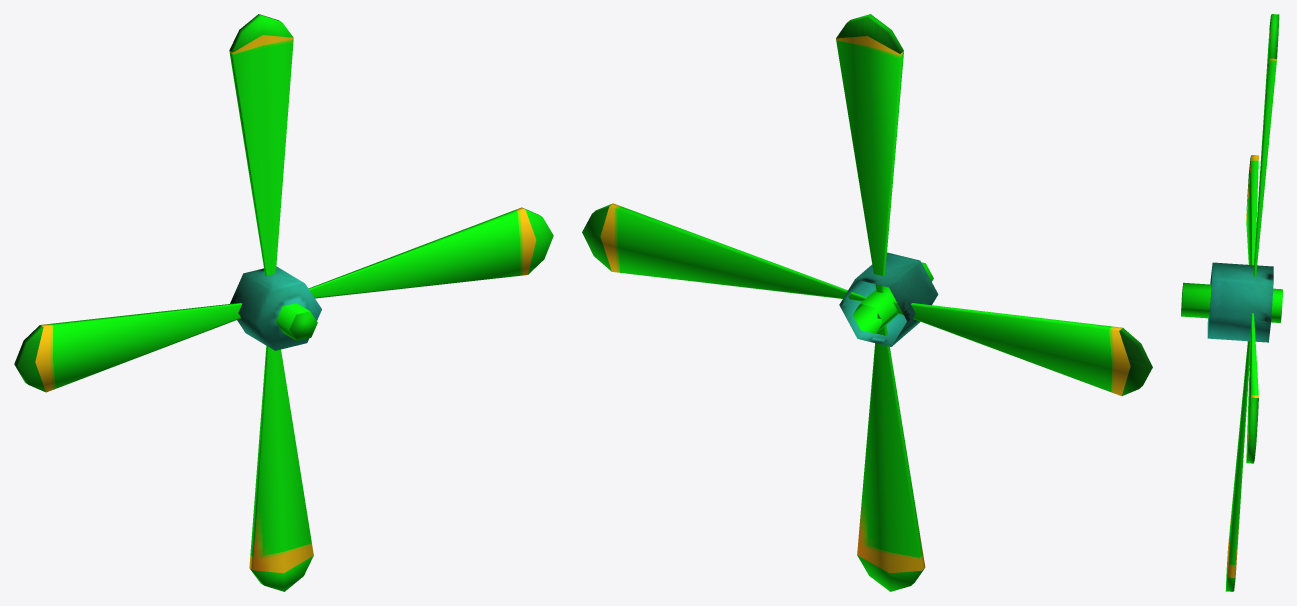
The model's file is plane7_blades.obj.
3 views of the same model, side by side, from view 1: azimuth 30°, elevation 25°; view 2: azimuth 150°, elevation 25°; view 3: azimuth 270°, elevation 25° (orthographic). The views are drawn at different scales.
Parts seen in each view (by area): view 1: Catoon_B29_fan4; view 2: Catoon_B29_fan4; view 3: Catoon_B29_fan4.
Boxes of the visible parts, x1,y1,x2,y2 form: Catoon_B29_fan4: [14, 14, 553, 591]; Catoon_B29_fan4: [582, 14, 1152, 591]; Catoon_B29_fan4: [1181, 14, 1282, 591].
Size of the model in its own units: 11.73 by 11.71 by 1.87.
1 material, 1 textured.
